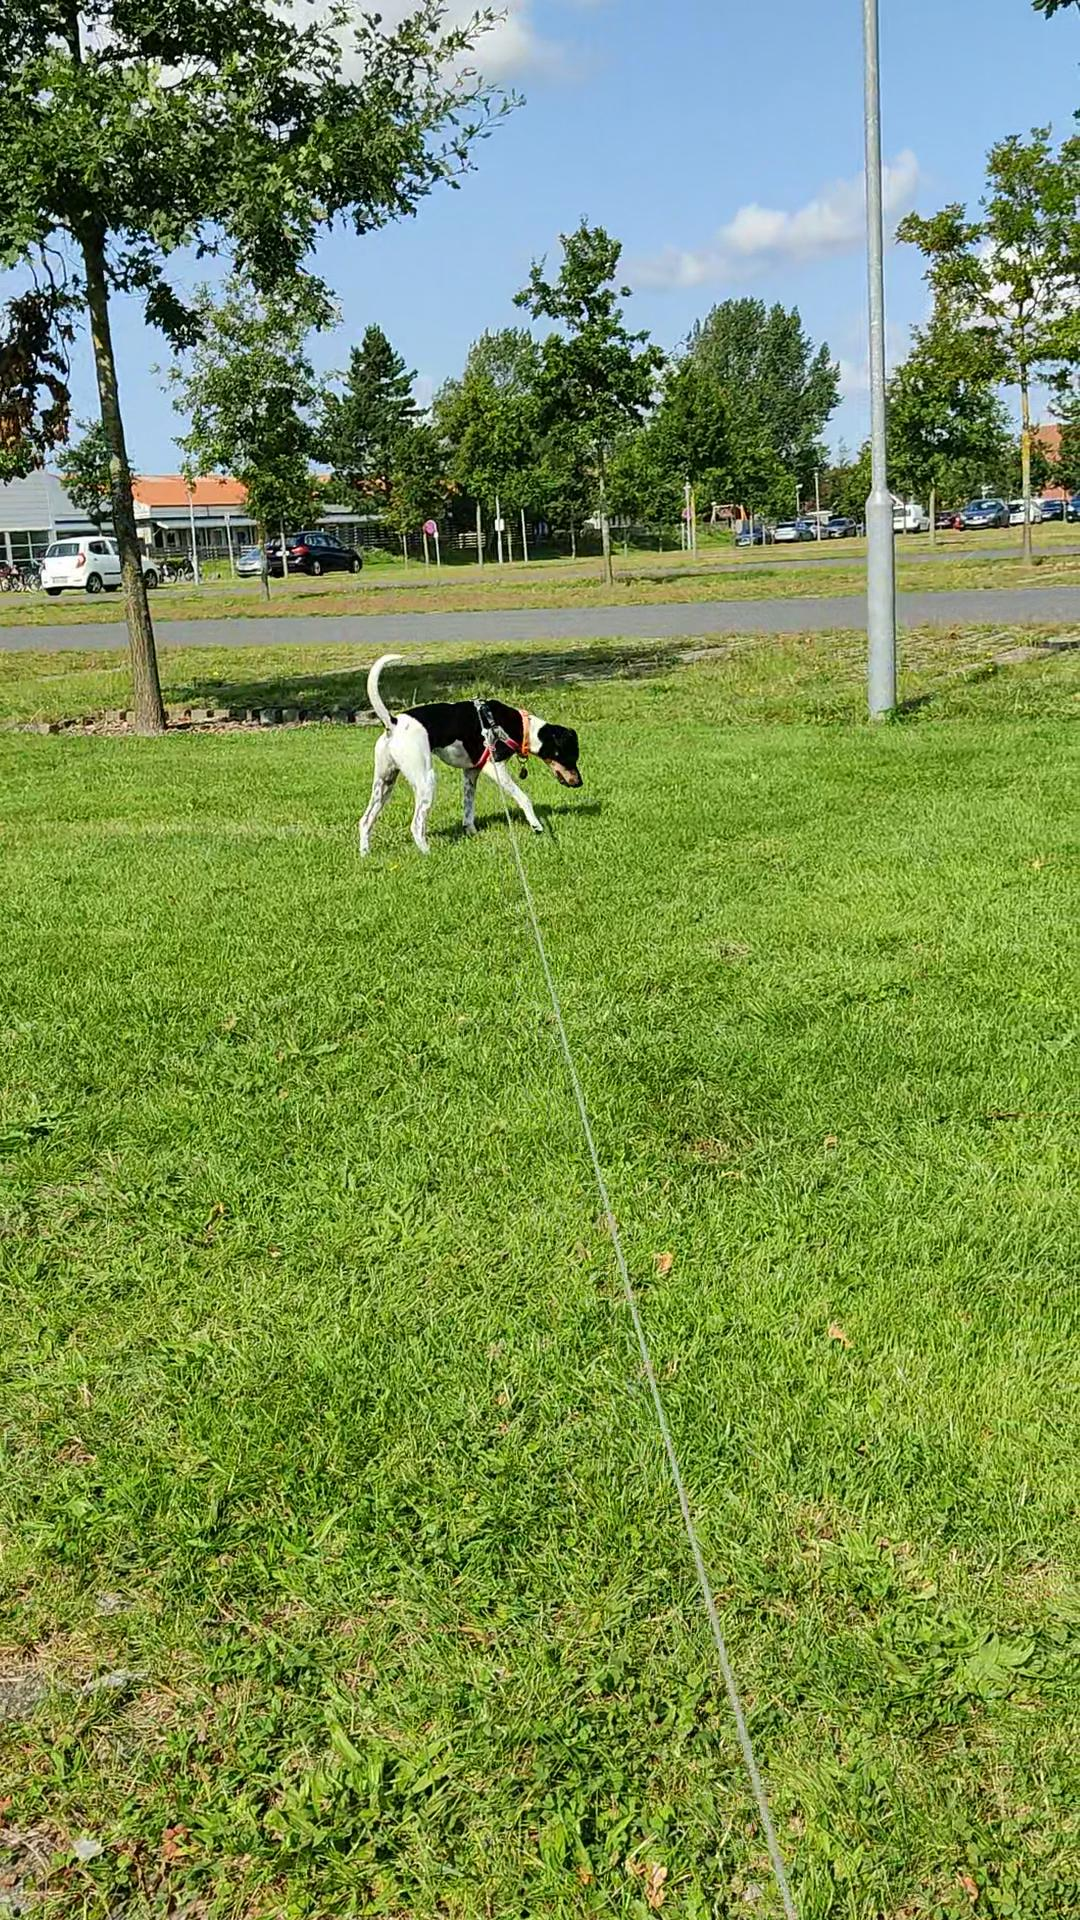Dog: (355, 649, 585, 857)
